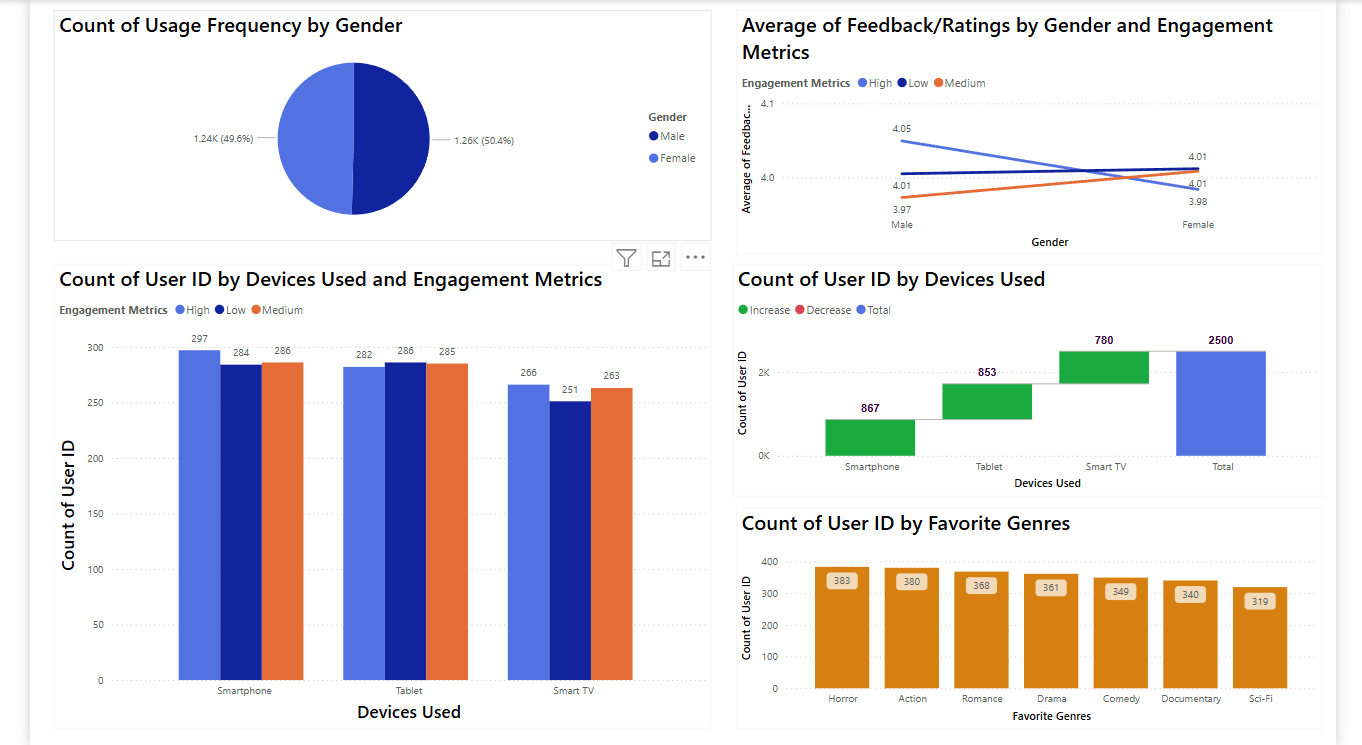

The page's visual inventory and layout, read from the dashboard file:
{"tool":"powerbi","page":{"name":"User-Platform Info","canvas":[1400,800],"ordinal":1},"visuals":[{"type":"clusteredColumnChart","fields":{"Category":["Prime Video platform Information.Devices Used"],"Series":["Prime Video platform Information.Engagement Metrics"],"Y":["CountNonNull(Prime Video platform Information.User ID)"]},"box":[25.5,282.8,705.1,498.7],"z":0},{"type":"waterfallChart","fields":{"Category":["Prime Video platform Information.Devices Used"],"Y":["CountNonNull(Prime Video platform Information.User ID)"]},"box":[753.4,282.8,632.7,249.3],"z":1},{"type":"lineStackedColumnComboChart","fields":{"Category":["Prime Video platform Information.Favorite Genres"],"Y":["CountNonNull(Prime Video platform Information.User ID)"]},"box":[757.4,544.2,628.7,237.3],"z":2},{"type":"pieChart","fields":{"Category":["Amazon Prime Video user Data.Gender"],"Y":["CountNonNull(Amazon Prime Video user Data.Usage Frequency)"]},"box":[25.5,10.7,705.1,248],"z":3},{"type":"lineChart","fields":{"Category":["Amazon Prime Video user Data.Gender"],"Y":["Avg(Amazon Prime Video user Data.Feedback/Ratings)"],"Series":["Amazon Prime Video user Data.Engagement Metrics"]},"box":[757.4,10.7,628.7,262.7],"z":4}]}

Visuals, with their boxes on the page's 1400x800 design canvas (x1, y1, x2, y2). These are canvas units, not pixel positions in the 1362x745 screenshot, which may show the page scaled, cropped or inside an application window:
clusteredColumnChart - Prime Video platform Information.Devices Used x Prime Video platform Information.Engagement Metrics: {"x1": 26, "y1": 283, "x2": 731, "y2": 782}
waterfallChart - Prime Video platform Information.Devices Used x CountNonNull(Prime Video platform Information.User ID): {"x1": 753, "y1": 283, "x2": 1386, "y2": 532}
lineStackedColumnComboChart - Prime Video platform Information.Favorite Genres x CountNonNull(Prime Video platform Information.User ID): {"x1": 757, "y1": 544, "x2": 1386, "y2": 782}
pieChart - Amazon Prime Video user Data.Gender x CountNonNull(Amazon Prime Video user Data.Usage Frequency): {"x1": 26, "y1": 11, "x2": 731, "y2": 259}
lineChart - Amazon Prime Video user Data.Gender x Avg(Amazon Prime Video user Data.Feedback/Ratings): {"x1": 757, "y1": 11, "x2": 1386, "y2": 273}
